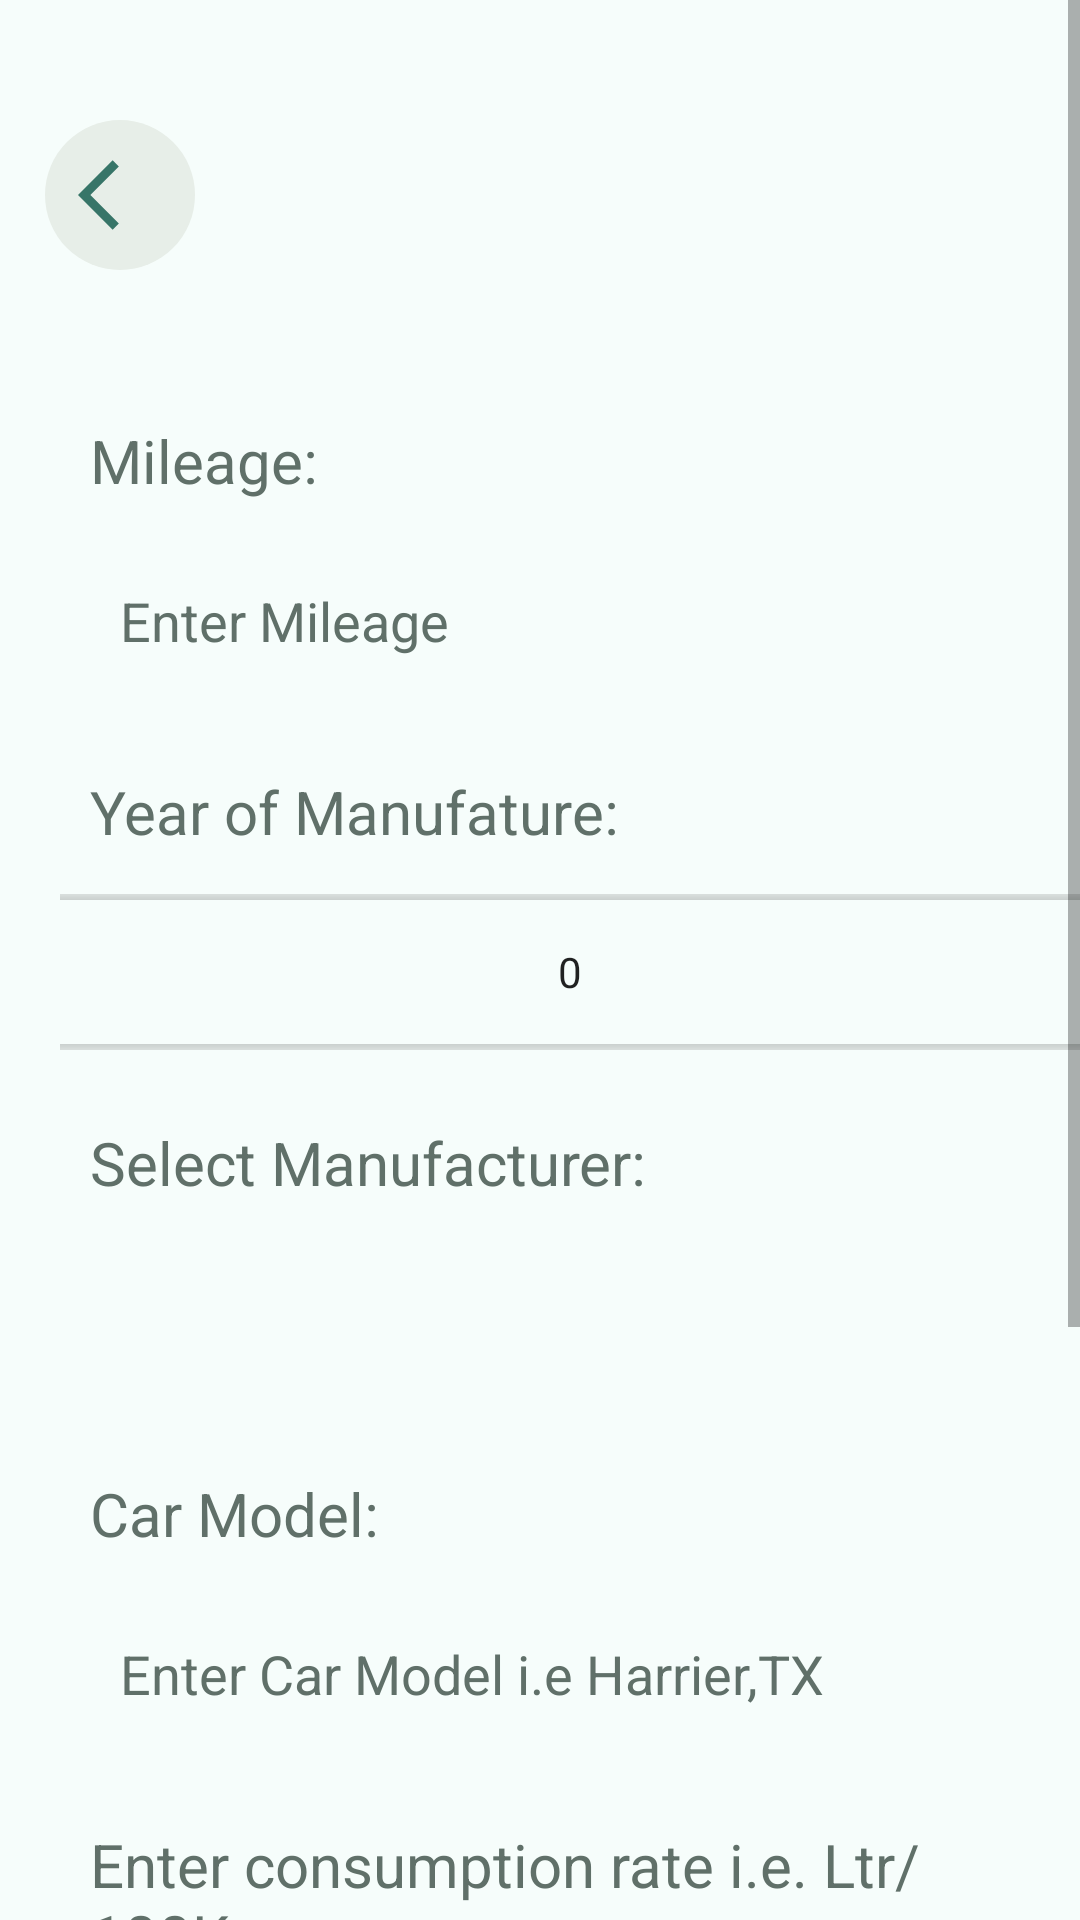

Icons on this 1080*1920 Android screen, each with its box as bbox=[x1, y1, x2, y2]:
arrow back: bbox=[45, 120, 195, 270]
